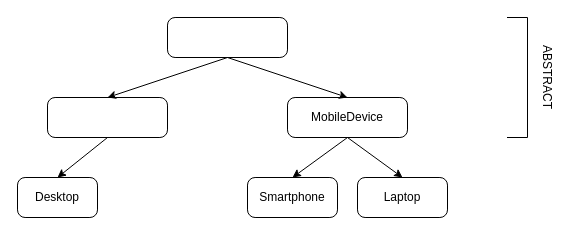
This 575x235 diagram has some shape labels left out. The box of each missing label's shape, as (x1, y1, x2, y2) in pixels:
Computer: (166, 16, 288, 58)
DesktopDevice: (46, 96, 168, 138)
